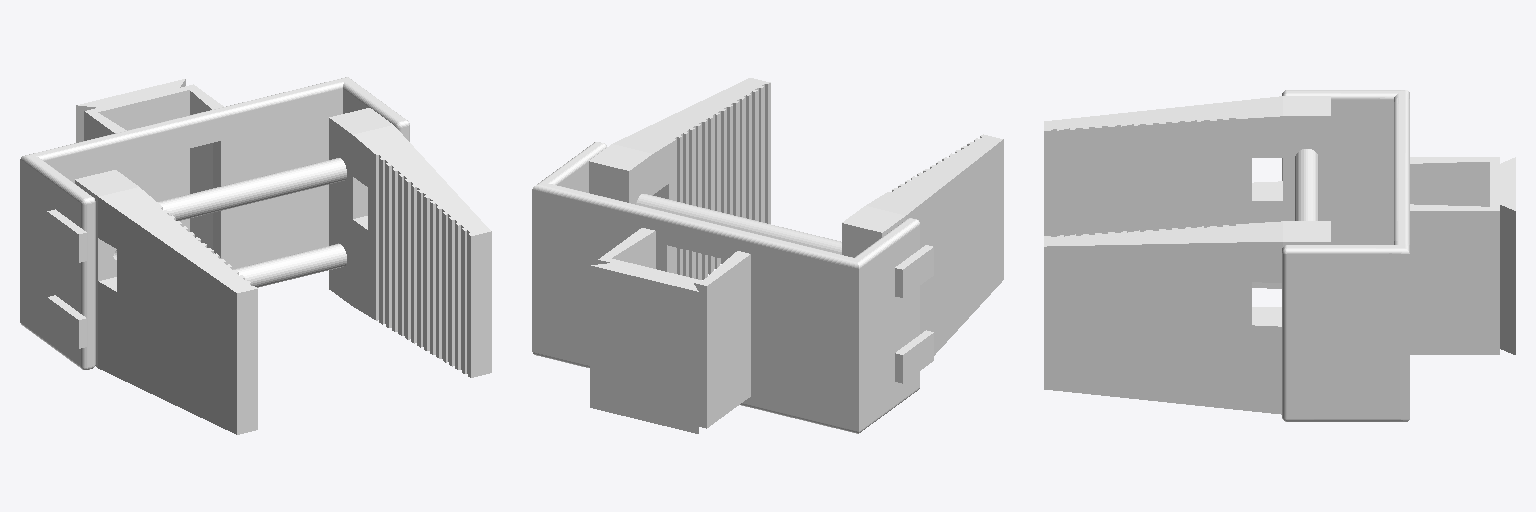
URDF robot description (parallel_gripper_end_effector):
<?xml version="1.0"?>
<robot name="parallel_gripper_end_effector">
	<!--///////////////////////////////////////
		 _     ___ _   _ _  ______  
		| |   |_ _| \ | | |/ / ___| 
		| |    | ||  \| | ' /\___ \ 
		| |___ | || |\  | . \ ___) |
		|_____|___|_| \_|_|\_\____/ 

	/////////////////////////////////////// -->

	<link name="wrist_3_link"/>

	<!-- end effector mount connector housing (female) -->
	<!-- <link name="end_effector_mount_connector">
		<visual>
			<geometry>
				<mesh filename="package://robot_description/meshes/end_effector_mount_connector.stl"/>
			</geometry>
			<material name='dark_grey'>
				<color rgba="0 0 0 0.5"/>
			</material>
			<origin xyz="0 0 10" rpy="0 0 0"/>
		</visual>
		
		<collision>
			<geometry>
				<mesh filename="package://robot_description/meshes/end_effector_mount_connector.stl"/>
			</geometry>
			<origin xyz="0 0 10" rpy="0 0 0"/>
		</collision>

	</link> -->

	<!-- end effector mount insert (male) -->
	<link name="end_effector_main_frame">
		<visual>
			<geometry>
				<mesh filename="package://robot_description/meshes/end_effector_main_frame.stl"/>
			</geometry>
			<material name='dark_grey'>
				<color rgba="1.0 1.0 1.0 1.0"/>
			</material>
		</visual>
			
		<collision>
			<geometry>
				<mesh filename="package://robot_description/meshes/end_effector_main_frame.stl"/>
			</geometry>
		</collision>
	</link>

	<!-- gripper fingers (left) -->
	<link name="gripper_finger_left">
		<visual>
			<geometry>
				<mesh filename="package://robot_description/meshes/gripper_finger_left.stl"/>
			</geometry>
			<material name='dark_grey'/>
		</visual>

		<collision>
			<geometry>
				<mesh filename="package://robot_description/meshes/gripper_finger_left.stl"/>
			</geometry>
		</collision>
	</link>	

	<!-- gripper fingers (right) -->
	<link name="gripper_finger_right">
		<visual>
			<geometry>
				<mesh filename="package://robot_description/meshes/gripper_finger_right.stl"/>
			</geometry>
			<material name='dark_grey'/>
		</visual>

		<collision>
			<geometry>
				<mesh filename="package://robot_description/meshes/gripper_finger_right.stl"/>
			</geometry>
		</collision>
	</link>	

	<!-- slider rod upper -->
	<link name="slider_rod_upper">
		<visual>
			<geometry>
				<mesh filename="package://robot_description/meshes/slider_rod.stl"/>
			</geometry>
			<material name='dark_grey'/>
		</visual>	
	</link>	

	<!-- slider rod lower -->
	<link name="slider_rod_lower">
		<visual>
			<geometry>
				<mesh filename="package://robot_description/meshes/slider_rod.stl"/>
			</geometry>
			<material name='dark_grey'/>
		</visual>	
	</link>	


	<!--///////////////////////////////////////
		 	 _  ___ ___ _   _ _____ ____  
			| |/ _ \_ _| \ | |_   _/ ___| 
		 _  | | | | | ||  \| | | | \___ \ 
		| |_| | |_| | || |\  | | |  ___) |
		 \___/ \___/___|_| \_| |_| |____/      

	/////////////////////////////////////// -->

	<!-- joint between wrist_link and end effector mount-->
	<!-- <joint name="end_effector_mount_connector_joint" type="fixed">
		<parent link="wrist_link"/>
		<child link="end_effector_mount_connector"/>
		<origin xyz="0 0 0" rpy="0 0 0"/>
	</joint> -->

	<!-- joint between main frame and end effector mount-->
	<joint name="mount_frame_joint" type="fixed">
		<parent link="wrist_3_link"/>
		<child link="end_effector_main_frame"/>
		<origin xyz="0 0 0" rpy="0 0 0"/>
	</joint>

	<!-- joint between main frame to slider 1-->
	<joint name="frame_slider_upper_joint" type="fixed">
		<parent link="end_effector_main_frame"/>
		<child link="slider_rod_upper"/>
		<origin xyz="0 36 40.5" rpy="0 0 0"/>
	</joint>	

	<!-- joint between main frame to slider 2-->
	<joint name="frame_slider_lower_joint" type="fixed">
		<parent link="end_effector_main_frame"/>
		<child link="slider_rod_lower"/>
		<origin xyz="0 36 10.5" rpy="0 0 0"/>
	</joint>

	<!-- joint between slider rod upper and left finger-->
	<joint name="left_finger_slide" type="prismatic">
		<parent link="slider_rod_upper"/>
		<child link="gripper_finger_left"/>
		<origin xyz="29 -76 -40" rpy="0 0 0"/>
		<axis xyz="-1 0 0"/>
		<limit lower="0" upper="29" effort="50" velocity="5"/>
	</joint>

	<!-- joint between slider rod upper and left finger-->
	<joint name="right_finger_slide" type="prismatic">
		<parent link="slider_rod_upper"/>
		<child link="gripper_finger_right"/>
		<origin xyz="-29 -76 -40" rpy="0 0 0"/>
		<axis xyz="1 0 0"/>
		<limit lower="0" upper="29" effort="50" velocity="5"/>
	</joint>
</robot>
 

--- Facts derived from the render (not from the file) ---
The picture shows the robot from 3 angles, left to right: view 1: azimuth 30°, elevation 25°; view 2: azimuth 150°, elevation 25°; view 3: azimuth 270°, elevation 25°; orthographic projection.
Robot: parallel_gripper_end_effector — 6 links, 5 joints (2 prismatic, 3 fixed); root link wrist_3_link; default pose: all joints at 0.
Visible links, largest first — view 1: end_effector_main_frame, gripper_finger_right, gripper_finger_left, slider_rod_upper, slider_rod_lower; view 2: end_effector_main_frame, gripper_finger_left, gripper_finger_right, slider_rod_upper, slider_rod_lower; view 3: end_effector_main_frame, gripper_finger_left, gripper_finger_right, slider_rod_upper.
Link boxes in pixels (bbox=[...]): end_effector_main_frame: bbox=[20, 77, 409, 369]; gripper_finger_right: bbox=[75, 170, 257, 434]; gripper_finger_left: bbox=[329, 108, 491, 377]; slider_rod_upper: bbox=[47, 158, 346, 262]; slider_rod_lower: bbox=[47, 244, 346, 348]; end_effector_main_frame: bbox=[532, 142, 919, 433]; gripper_finger_left: bbox=[589, 78, 770, 279]; gripper_finger_right: bbox=[842, 134, 1003, 355]; slider_rod_upper: bbox=[636, 194, 933, 297]; slider_rod_lower: bbox=[895, 330, 933, 383]; end_effector_main_frame: bbox=[1282, 90, 1515, 421]; gripper_finger_left: bbox=[1044, 221, 1330, 414]; gripper_finger_right: bbox=[1044, 96, 1330, 288]; slider_rod_upper: bbox=[1295, 149, 1318, 220].
Size in the robot's own frame: 123 by 148 by 60.02 metres.
5 mesh visuals loaded from 4 distinct referenced files (4 binary STL).
